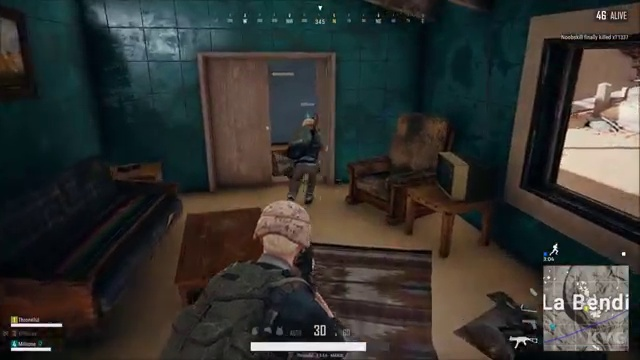Player: (186, 194, 347, 329), (269, 110, 356, 192)
